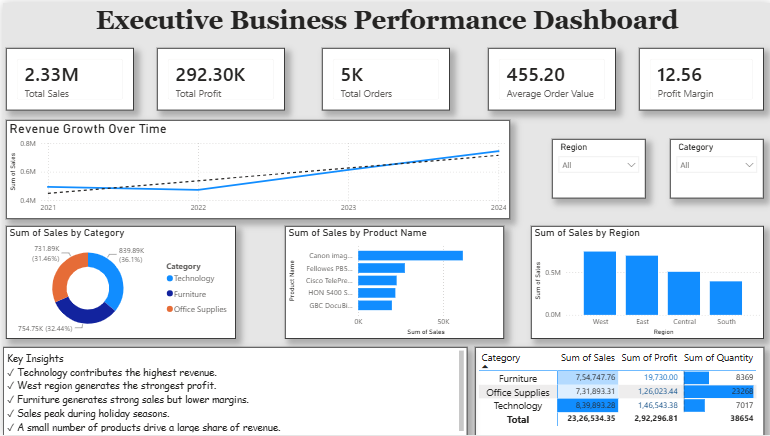

The page's visual inventory and layout, read from the dashboard file:
{"tool":"powerbi","page":{"name":"Page 1","canvas":[1280,720],"ordinal":0},"visuals":[{"type":"textbox","box":[0,0,1280,75.6],"z":0},{"type":"cardVisual","fields":{"Data":["Orders.Profit Margin"]},"box":[1059.9,75.6,208.3,104.1],"z":1},{"type":"cardVisual","fields":{"Data":["Orders.Total Sales"]},"box":[5,75.6,213.3,104.1],"z":2},{"type":"cardVisual","fields":{"Data":["Orders.Total Profit"]},"box":[257,75.6,213.3,104.1],"z":3},{"type":"cardVisual","fields":{"Data":["Orders.Total Orders"]},"box":[532.5,75.6,213.3,104.1],"z":4},{"type":"cardVisual","fields":{"Data":["Orders.Average Order Value"]},"box":[808,75.6,213.3,104.1],"z":5},{"type":"lineChart","title":"Revenue Growth Over Time","fields":{"Category":["Orders.Order Date.Variation.Date Hierarchy.Year","Orders.Order Date.Variation.Date Hierarchy.Month"],"Y":["Sum(Orders.Sales)"]},"box":[5,194.9,839.9,164.6],"z":6},{"type":"donutChart","fields":{"Category":["Orders.Category"],"Y":["Sum(Orders.Sales)"]},"box":[5,371.2,383,188.1],"z":7},{"type":"barChart","fields":{"Category":["Orders.Product Name"],"Y":["Sum(Orders.Sales)"]},"box":[470.3,371.2,364.5,188.1],"z":8},{"type":"clusteredColumnChart","fields":{"Category":["Orders.Region"],"Y":["Sum(Orders.Sales)"]},"box":[880.2,371.2,388,188.1],"z":9},{"type":"pivotTable","fields":{"Rows":["Orders.Category"],"Values":["Sum(Orders.Sales)","Sum(Orders.Profit)","Sum(Orders.Quantity)"]},"box":[786.1,572.8,482.1,147.8],"z":10},{"type":"textbox","box":[0,572.8,774.4,147.8],"z":11},{"type":"slicer","fields":{"Values":["Orders.Region"]},"box":[915.5,226.8,156.2,99.1],"z":12},{"type":"slicer","fields":{"Values":["Orders.Category"]},"box":[1112,226.8,156.2,99.1],"z":13}]}

Visuals, with their boxes in screenshot pixels (x1, y1, x2, y2), scaled from the page's 1280x720 canvas onto the 770x436 screenshot:
textbox: x1=0, y1=0, x2=769, y2=46
cardVisual - Orders.Profit Margin: x1=638, y1=46, x2=763, y2=109
cardVisual - Orders.Total Sales: x1=3, y1=46, x2=131, y2=109
cardVisual - Orders.Total Profit: x1=155, y1=46, x2=283, y2=109
cardVisual - Orders.Total Orders: x1=320, y1=46, x2=449, y2=109
cardVisual - Orders.Average Order Value: x1=486, y1=46, x2=614, y2=109
"Revenue Growth Over Time" lineChart: x1=3, y1=118, x2=508, y2=218
donutChart - Orders.Category x Sum(Orders.Sales): x1=3, y1=225, x2=233, y2=339
barChart - Orders.Product Name x Sum(Orders.Sales): x1=283, y1=225, x2=502, y2=339
clusteredColumnChart - Orders.Region x Sum(Orders.Sales): x1=529, y1=225, x2=763, y2=339
pivotTable - Orders.Category x Sum(Orders.Sales): x1=473, y1=347, x2=763, y2=435
textbox: x1=0, y1=347, x2=466, y2=435
slicer - Orders.Region: x1=551, y1=137, x2=645, y2=197
slicer - Orders.Category: x1=669, y1=137, x2=763, y2=197
